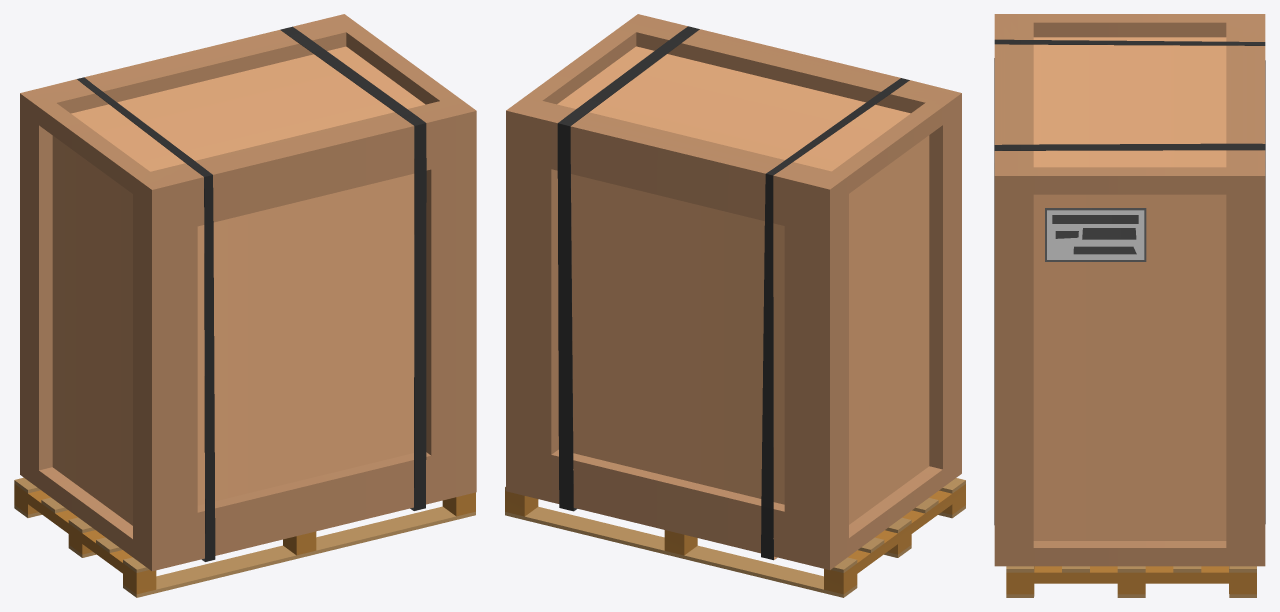
File: Large Shipping Crate #2.fbx
3 renders of one model, left to right at view 1: azimuth 30°, elevation 25°; view 2: azimuth 150°, elevation 25°; view 3: azimuth 270°, elevation 25°, orthographic. The views are drawn at different scales.
Parts seen in each view (by area): view 1: Large Shipping Crate #2; view 2: Large Shipping Crate #2; view 3: Large Shipping Crate #2.
Boxes of the visible parts, x1,y1,x2,y2 form: Large Shipping Crate #2: (14,14,476,597); Large Shipping Crate #2: (505,14,965,597); Large Shipping Crate #2: (994,14,1265,597).
Bounding box in the file's own units: 637 × 374 × 552.
1 material, 1 textured.
